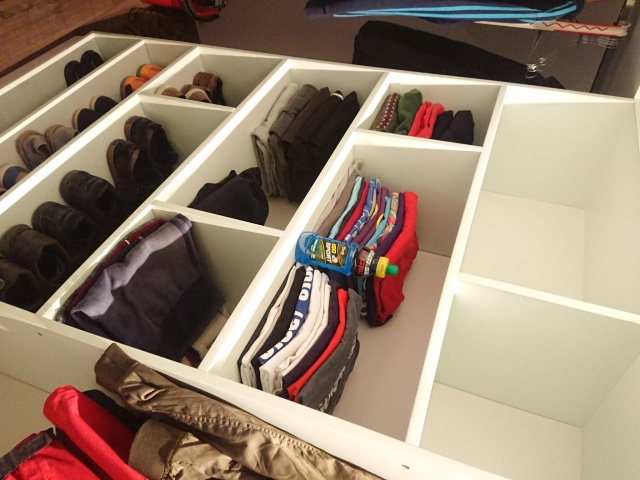Vindi Iso Sport Forest Strawberries 500mL: (293, 230, 399, 279)
